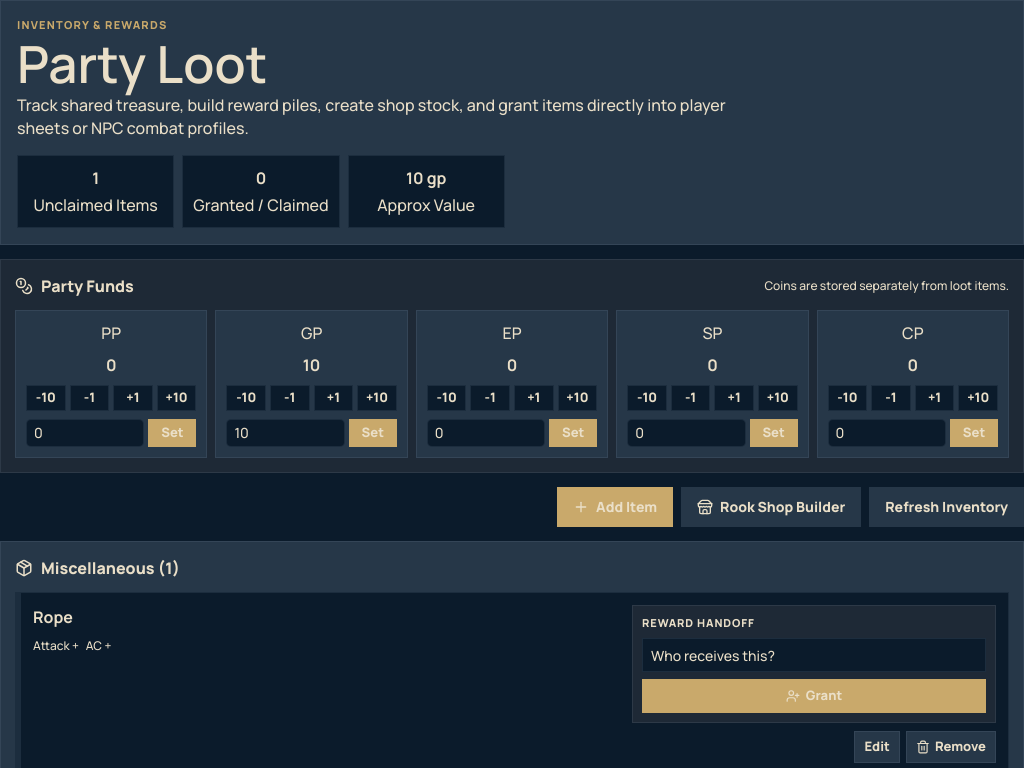
PartyInventoryTab reliability › keeps last-known loot when a manual inventory refresh fails
This screenshot has width=1024, height=768.
Expected: the text "Rope" is shown, [33,604,73,628]
Click the button "Refresh Inventory" at [947, 506], box [869,486,1023,526]
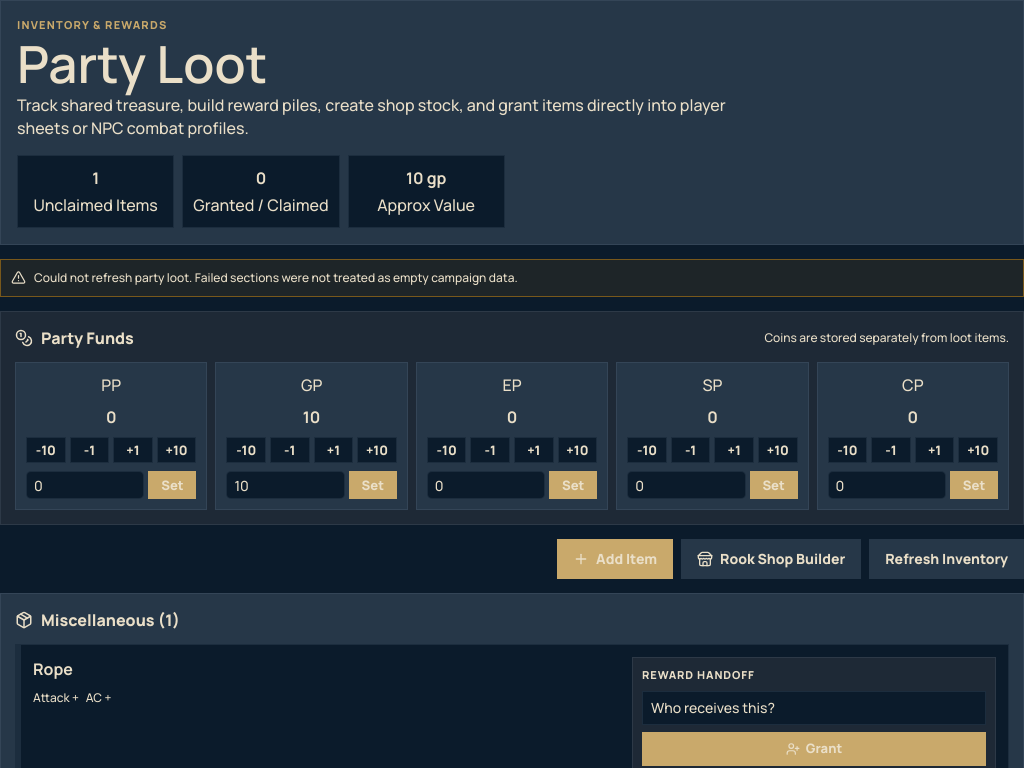
Expected: the text "Rope" is shown, [33,657,73,681]
Expected: the message with test id "party-inventory-refresh-warning" shows "party loot", [34,268,518,286]
